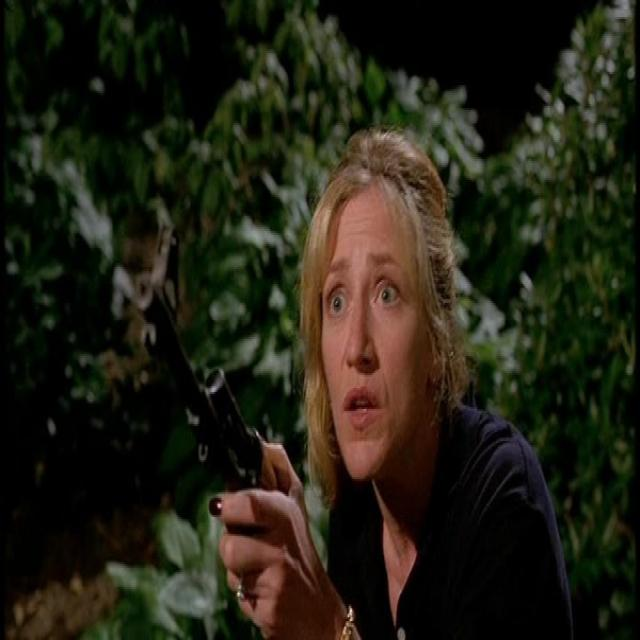rifle: (125, 216, 276, 487)
